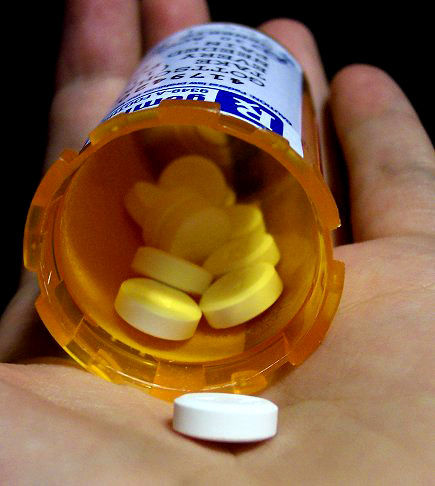pill bottle: (28, 20, 343, 403)
